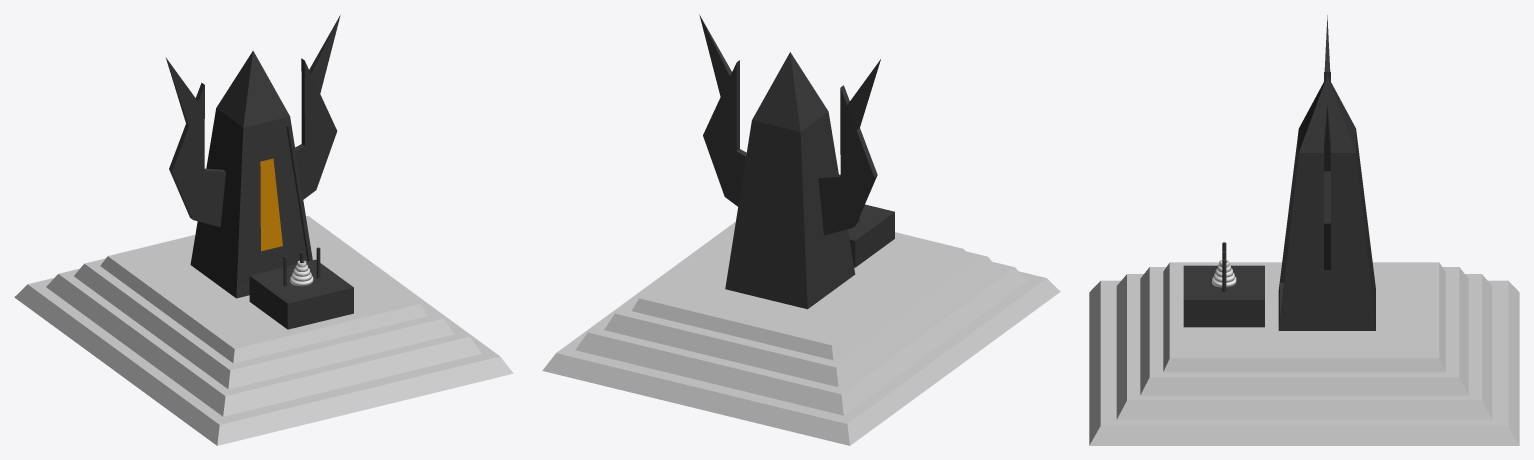
Rendered from Generator.fbx.
The picture shows the model from 3 angles, left to right: view 1: azimuth 30°, elevation 25°; view 2: azimuth 150°, elevation 25°; view 3: azimuth 270°, elevation 25°; orthographic projection. The views are drawn at different scales.
Visible parts, largest first — view 1: Cube; view 2: Cube; view 3: Cube.
Part boxes in pixels (bbox=[...]): Cube: bbox=[14, 15, 513, 445]; Cube: bbox=[542, 14, 1060, 445]; Cube: bbox=[1089, 15, 1519, 445].
Bounding box in the file's own units: 895 × 843 × 1062.
